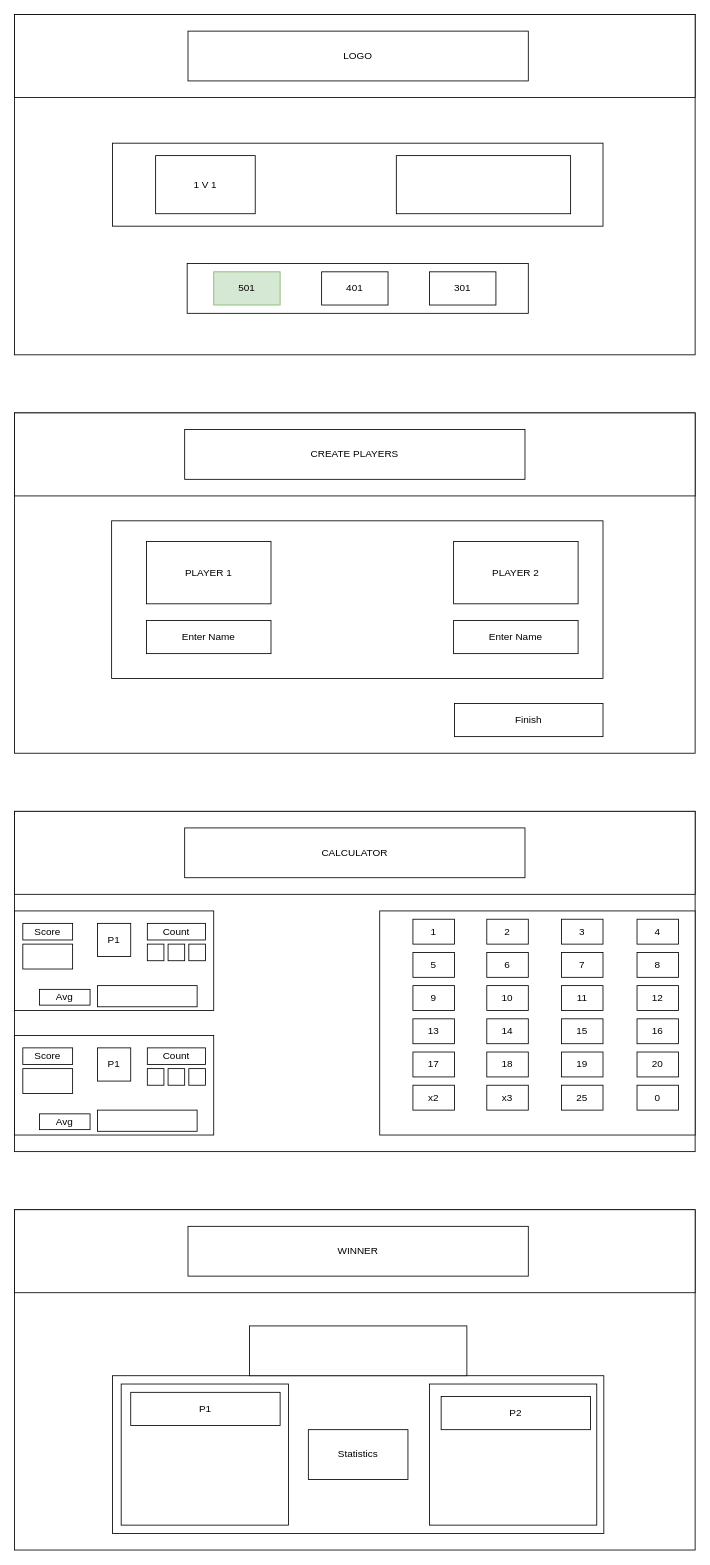
This 710x1565 diagram has some shape labels left out. Here are the shapes that lost their labels. From the top down, the centre of each, then its label:
At (x=483, y=184): "Start Game".
At (x=358, y=1350): "PlayerName has won the game".
